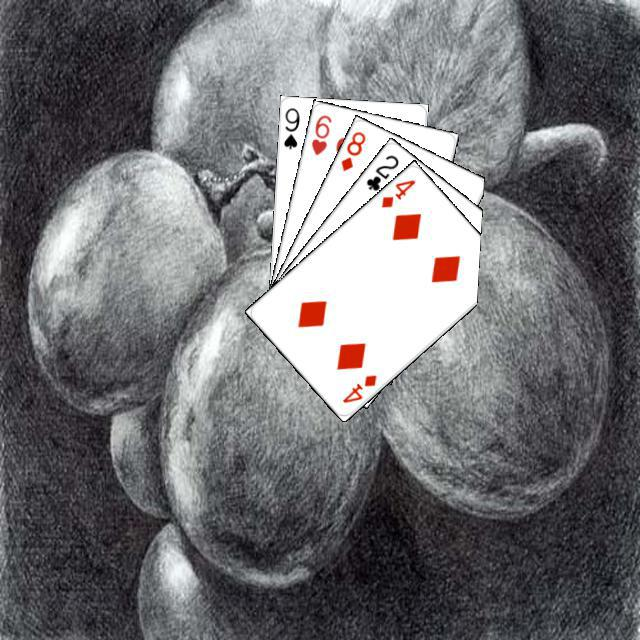2c: (361, 150, 401, 193)
4d: (337, 370, 379, 405), (376, 175, 417, 210)
6h: (306, 110, 333, 157)
8d: (336, 126, 367, 173)
9s: (279, 103, 301, 151)
